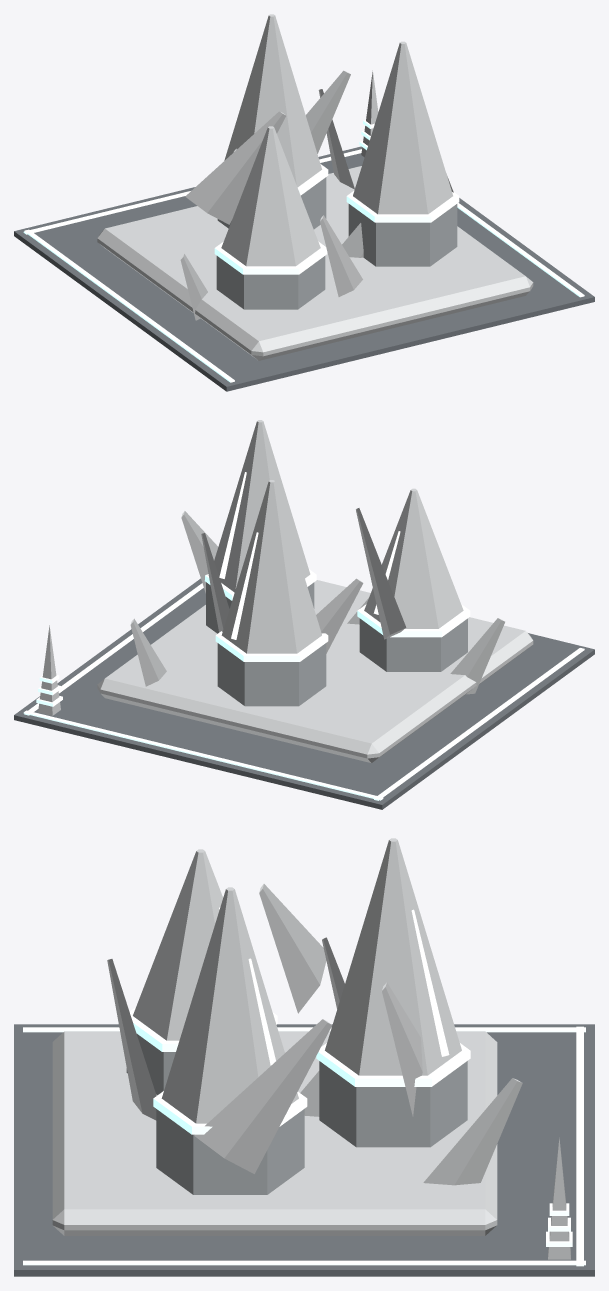
The model's file is zone_low_1_t3.glb.
3 views of the same model, one above another, from view 1: azimuth 30°, elevation 25°; view 2: azimuth 150°, elevation 25°; view 3: azimuth 270°, elevation 25° (orthographic). The views are drawn at different scales.
Visible parts, largest first — view 1: zone_low_1_t3, detail; view 2: zone_low_1_t3, detail; view 3: zone_low_1_t3, detail.
Boxes of the visible parts, x1=… form: zone_low_1_t3: x1=14, y1=14, x2=594, y2=391; detail: x1=23, y1=70, x2=584, y2=382; zone_low_1_t3: x1=14, y1=420, x2=594, y2=809; detail: x1=23, y1=583, x2=584, y2=800; zone_low_1_t3: x1=14, y1=838, x2=594, y2=1276; detail: x1=23, y1=1026, x2=585, y2=1266.
Bounding box in the file's own units: 19.6 × 14.52 × 19.6.
